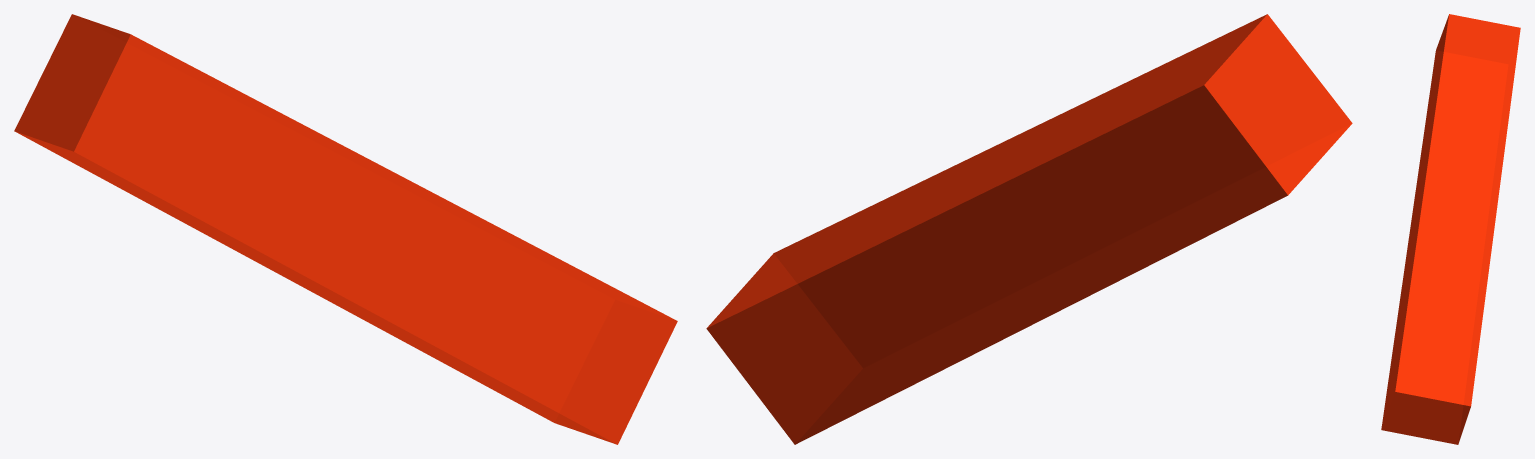
The model's file is Event_421127236_EBrechit_50.fbx.
3 renders of one model, left to right at view 1: azimuth 30°, elevation 25°; view 2: azimuth 150°, elevation 25°; view 3: azimuth 270°, elevation 25°, orthographic. The views are drawn at different scales.
Visible parts, largest first — view 1: Model; view 2: Model; view 3: Model.
Part boxes in pixels (x1=…): Model: x1=14, y1=14, x2=677, y2=444; Model: x1=706, y1=14, x2=1352, y2=444; Model: x1=1381, y1=14, x2=1520, y2=444.
Bounding box in the file's own units: 0.3025 × 0.2531 × 0.1055.
